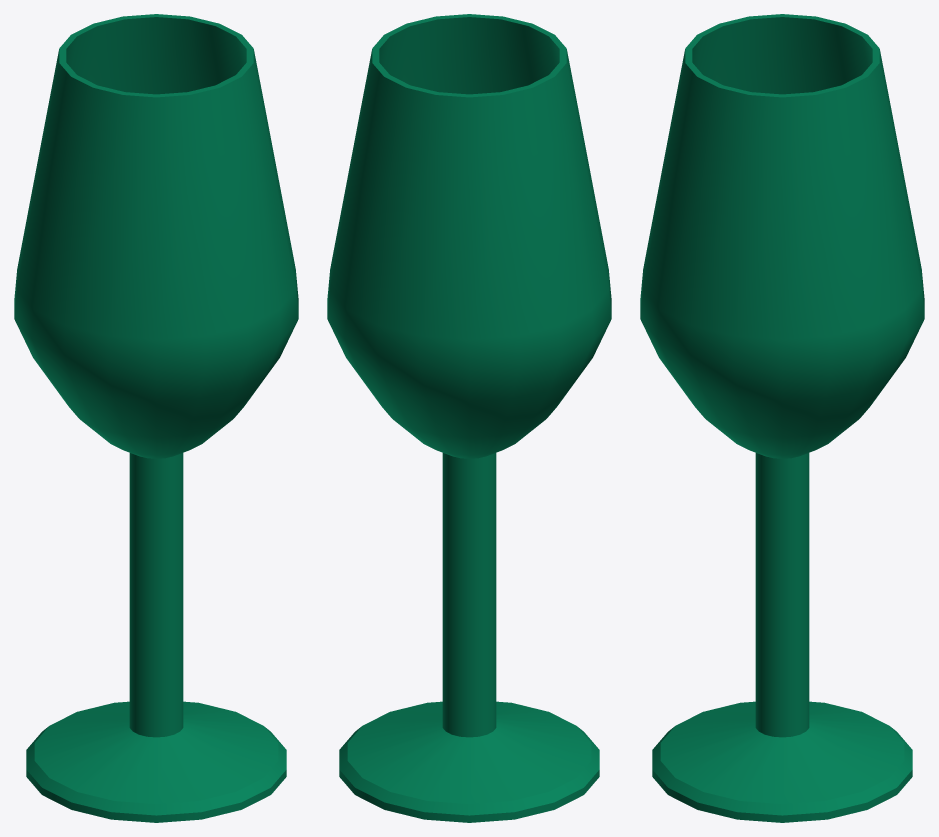
The model's file is Wine glass.FBX.
3 views of the same model, side by side, from view 1: azimuth 30°, elevation 25°; view 2: azimuth 150°, elevation 25°; view 3: azimuth 270°, elevation 25° (orthographic).
Visible parts, largest first — view 1: Wine glass; view 2: Wine glass; view 3: Wine glass.
Part boxes in pixels (x1=…): Wine glass: x1=14, y1=14, x2=298, y2=822; Wine glass: x1=327, y1=14, x2=611, y2=822; Wine glass: x1=640, y1=14, x2=924, y2=822.
Bounding box in the file's own units: 0.1614 × 0.4393 × 0.159.
